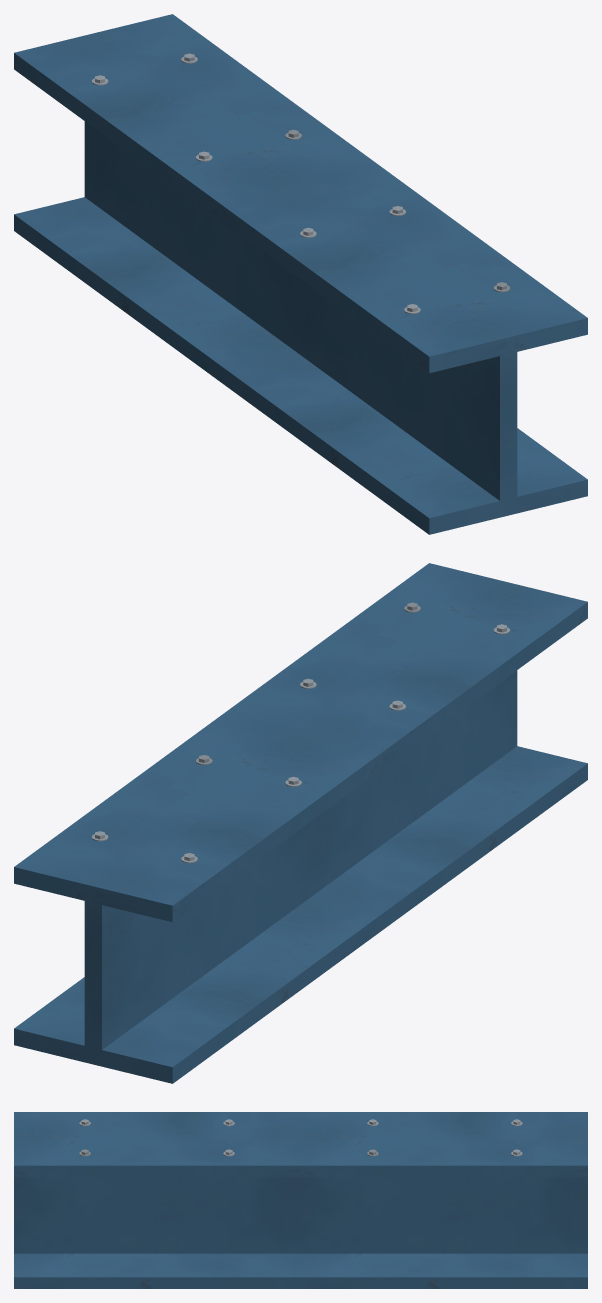
File: ibeam_short.glb
3 views of the same model, one above another, from view 1: azimuth 30°, elevation 25°; view 2: azimuth 150°, elevation 25°; view 3: azimuth 270°, elevation 25° (orthographic). The views are drawn at different scales.
Visible parts, largest first — view 1: Body.001; view 2: Body.001; view 3: Body.001.
Part boxes in pixels (left/top/right/bottom): Body.001: left=14, top=14, right=587, bottom=534; Body.001: left=14, top=563, right=587, bottom=1083; Body.001: left=14, top=1112, right=587, bottom=1288.
Size of the model in its own units: 0.22 by 0.2472 by 0.997.
2 materials, 2 textured.
